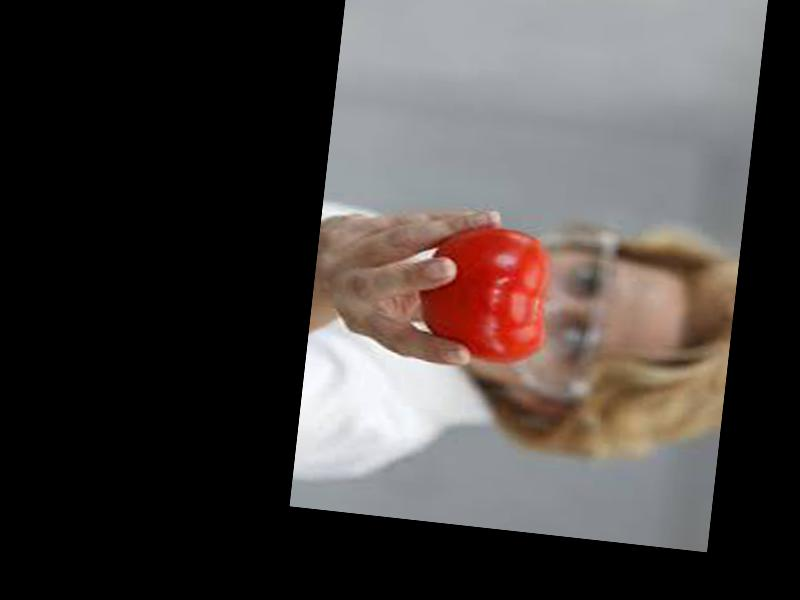Tomato: (416, 221, 553, 370)
